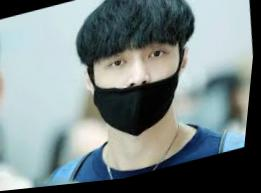WRONG: (84, 16, 194, 144)
